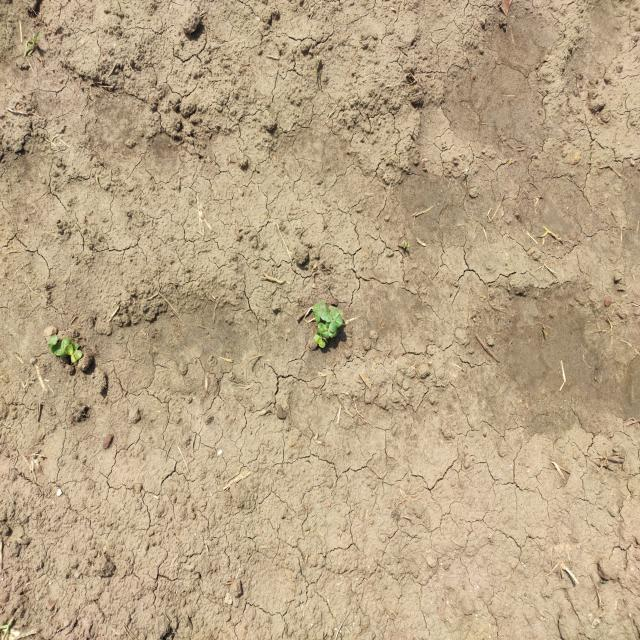seedling: (329, 315, 343, 333), (60, 338, 71, 358), (48, 334, 58, 355), (318, 323, 330, 339), (325, 309, 339, 322), (318, 301, 327, 321), (325, 322, 336, 338), (65, 342, 78, 355), (314, 334, 326, 348), (71, 350, 83, 363), (328, 306, 343, 316), (313, 304, 320, 323), (53, 342, 63, 355)
